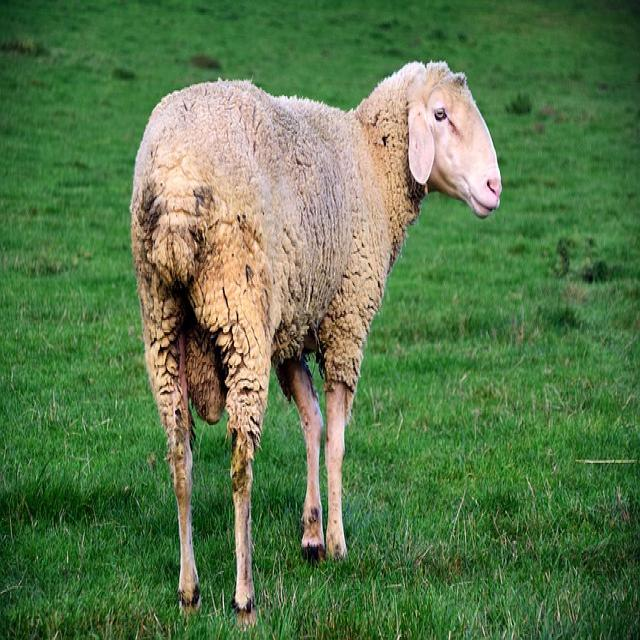sheep: (128, 57, 502, 630)
